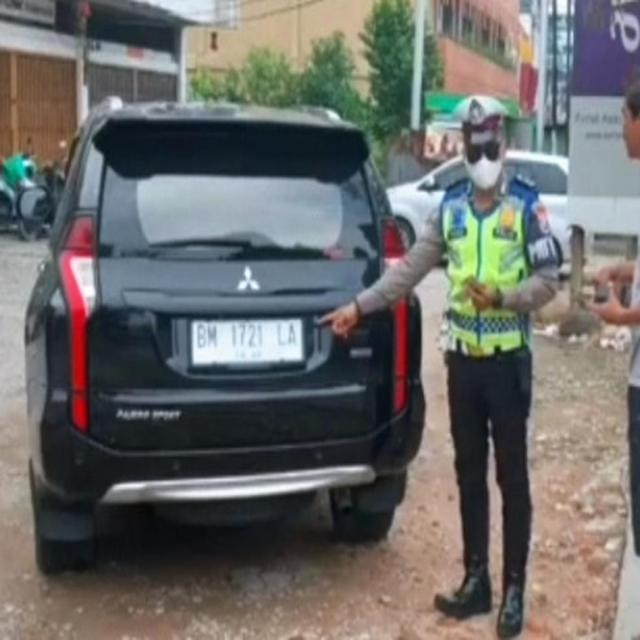license-plat: (182, 296, 320, 399)
